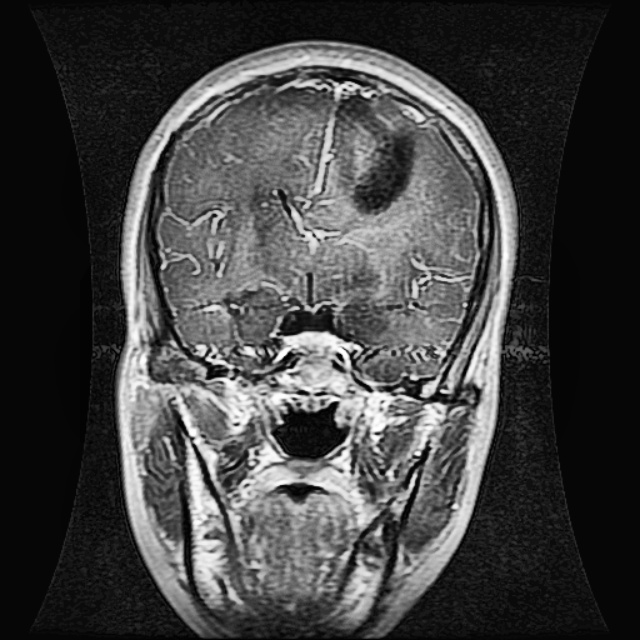Meningioma: (332, 88, 418, 218)
